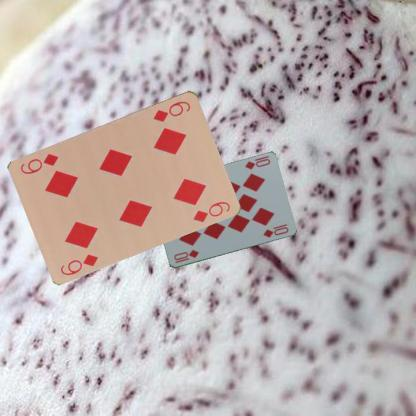10d: (171, 247, 200, 265), (242, 156, 271, 171)
6d: (58, 251, 100, 277), (151, 98, 192, 123)
